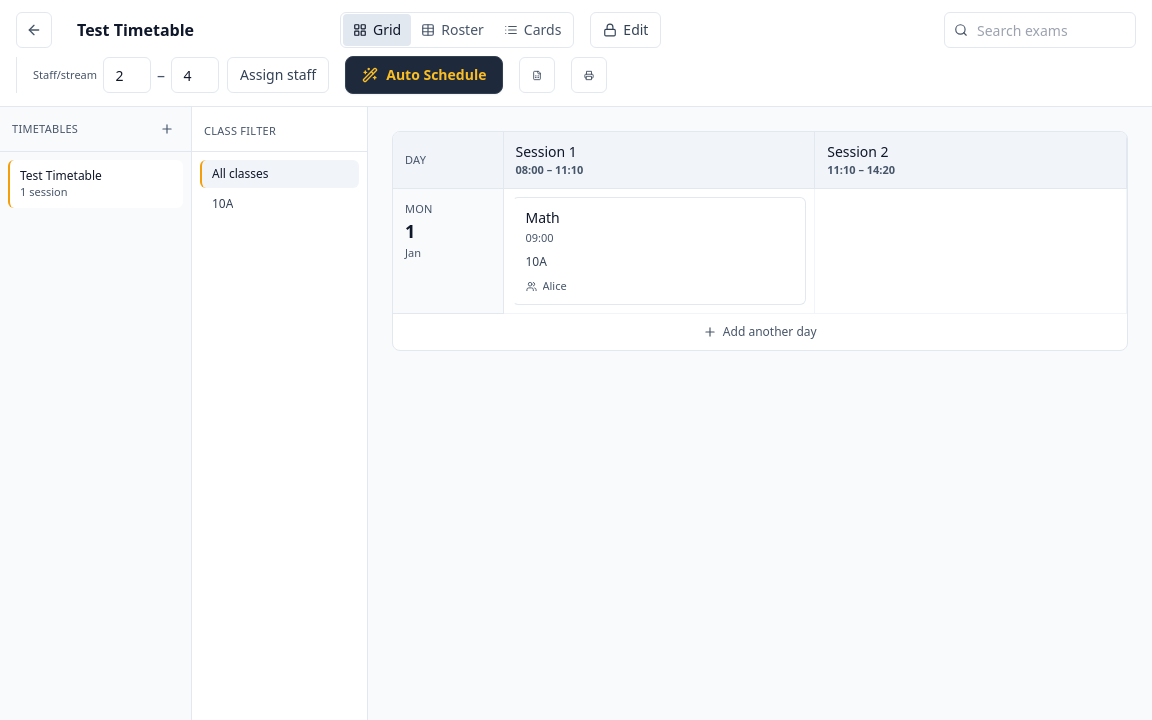
Test case: ExamsView › should enable edit mode
This screenshot has width=1152, height=720.
What coordinates should you click on to do the following:
click the button "Edit"
I would click on:
 (626, 30)
Its box is [590,12,662,48].
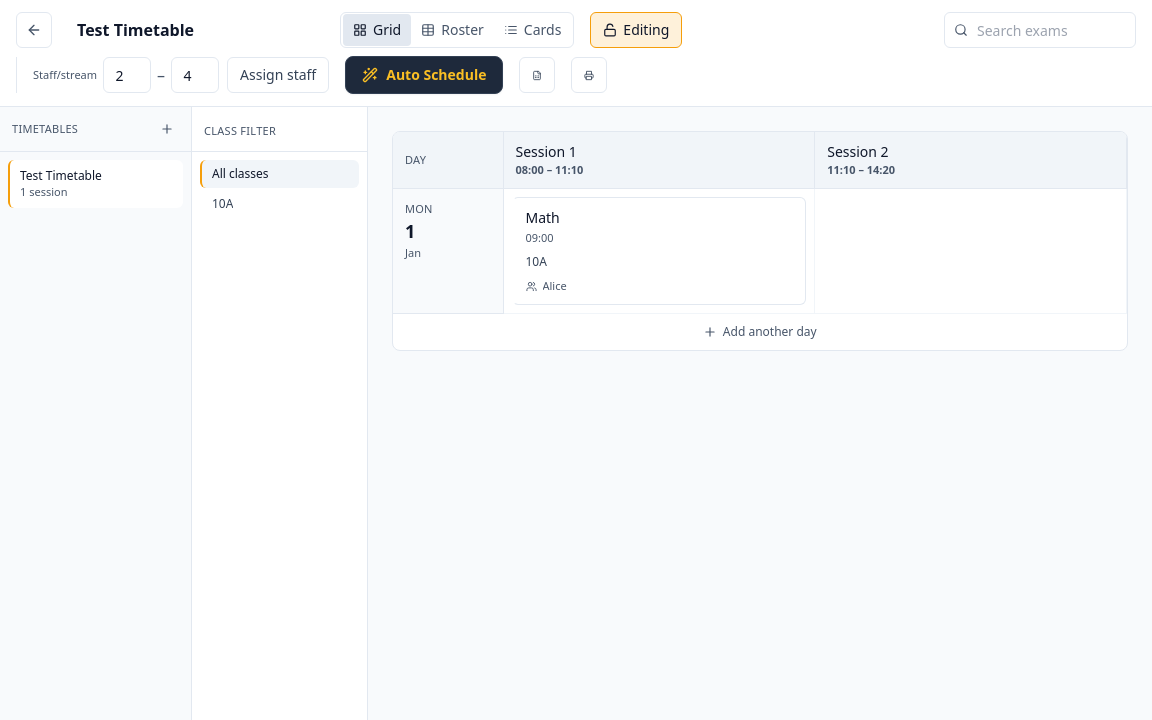
expect the button "Editing" is shown: met, box [590,12,682,48]
